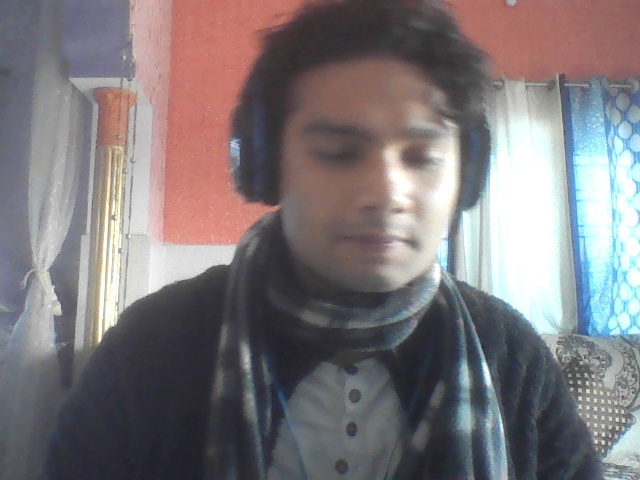real: (252, 0, 480, 323)
